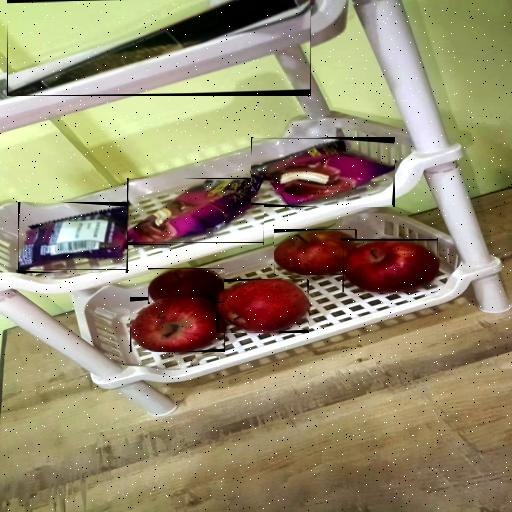Apple: (130, 297, 225, 352), (344, 240, 438, 292), (217, 280, 308, 332), (274, 231, 356, 274), (149, 269, 224, 302)
Choco Fills: (8, 0, 309, 96)
Choco Pie: (252, 139, 394, 205), (127, 179, 264, 243), (18, 206, 128, 270)
